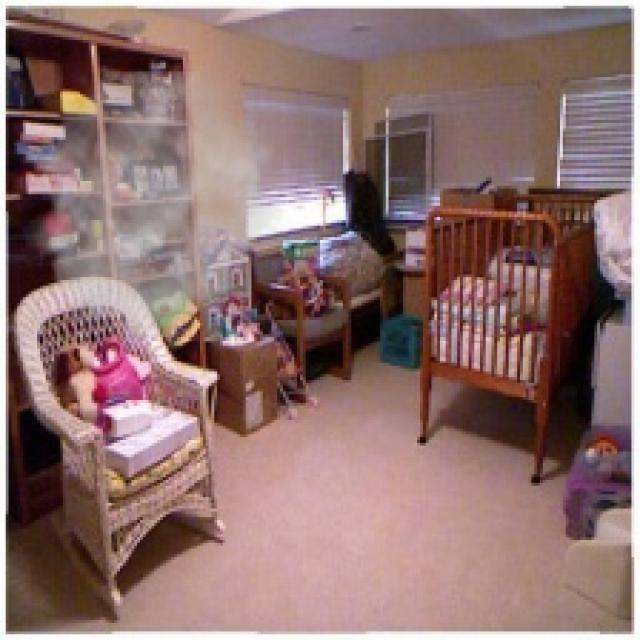Smoke: (23, 71, 286, 338)
